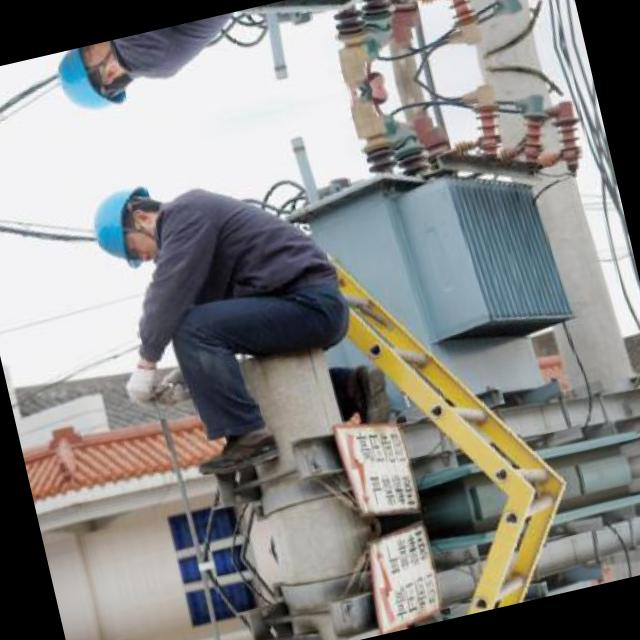helmet: (78, 168, 180, 274), (46, 36, 147, 130)
